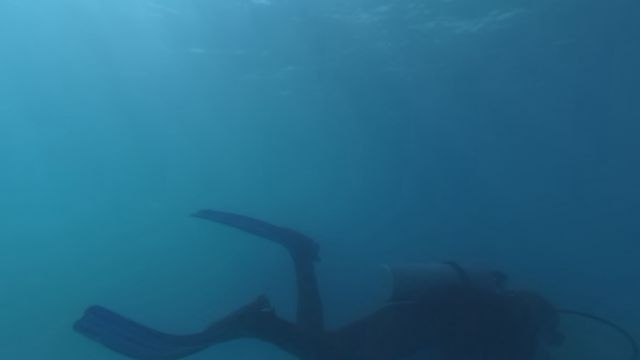Diver: (50, 187, 586, 356)
